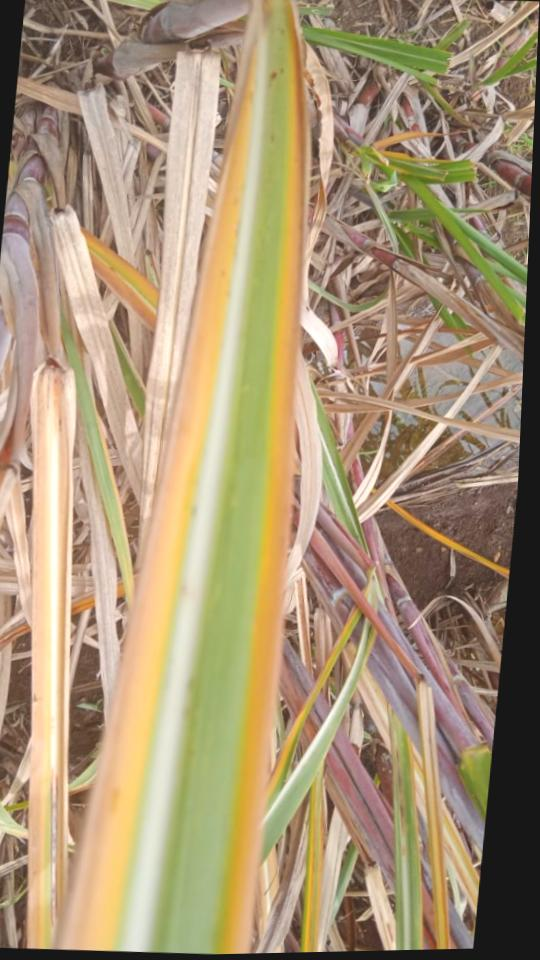Yellow: (57, 37, 258, 951), (209, 62, 299, 954)
